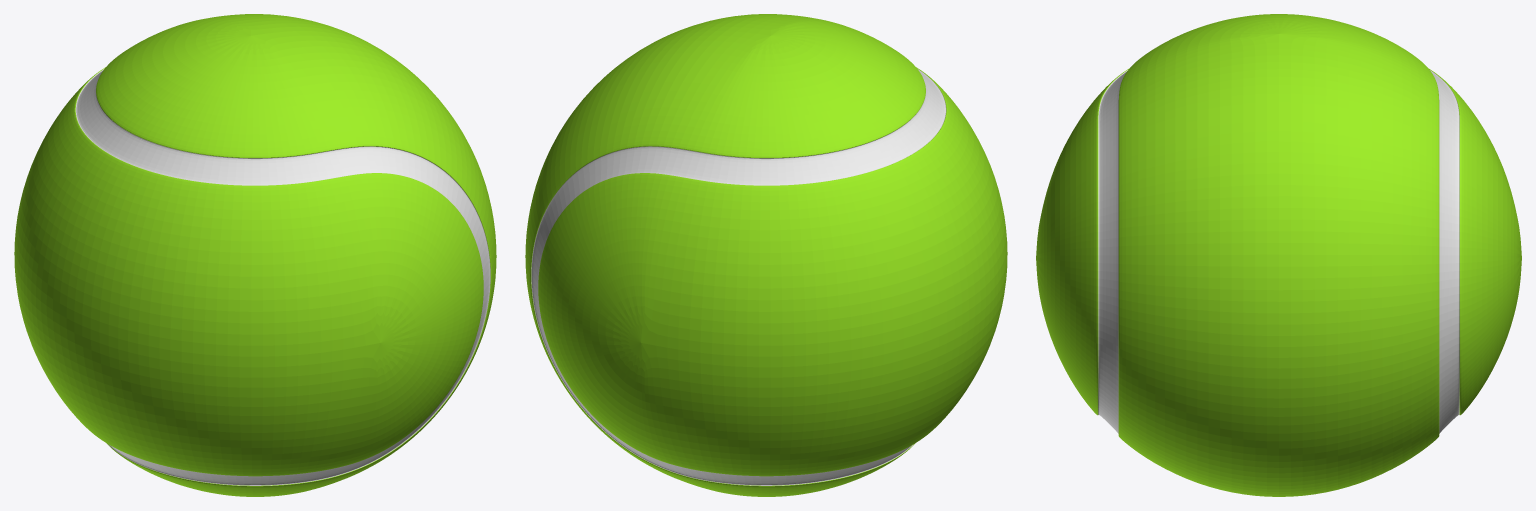
Rendered from Tennisball.fbx.
3 views of the same model, side by side, from view 1: azimuth 30°, elevation 25°; view 2: azimuth 150°, elevation 25°; view 3: azimuth 270°, elevation 25° (orthographic).
Parts seen in each view (by area): view 1: Sphere; view 2: Sphere; view 3: Sphere.
Part boxes in pixels (x1=…): Sphere: x1=14, y1=14, x2=496, y2=496; Sphere: x1=525, y1=14, x2=1007, y2=496; Sphere: x1=1036, y1=14, x2=1521, y2=496.
Bounding box in the file's own units: 197 × 199 × 199.
